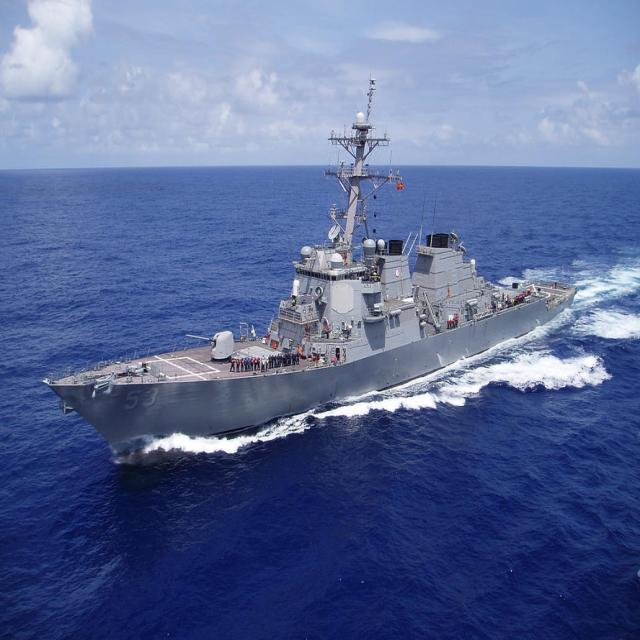navalvessels: (31, 68, 580, 458)
